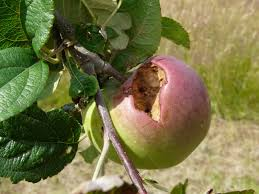damaged_apple: (103, 58, 210, 171)
